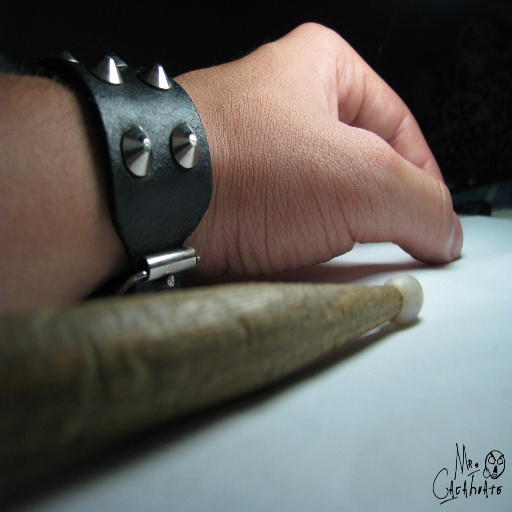hand: (170, 23, 462, 291)
